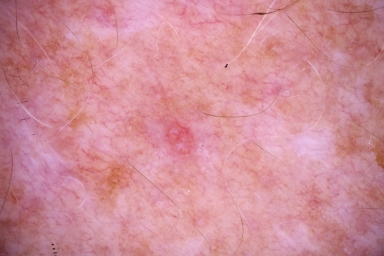melanoma: (168, 120, 198, 158)
